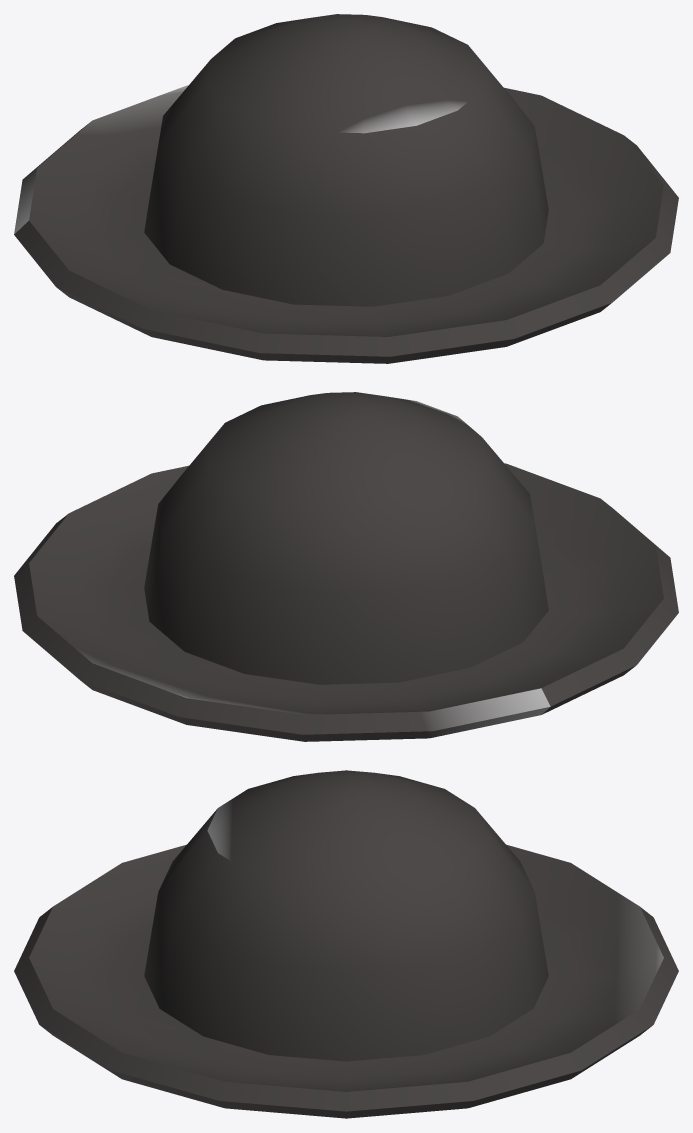
Rendered from kapelusz.fbx.
3 renders of one model, top to bottom at view 1: azimuth 30°, elevation 25°; view 2: azimuth 150°, elevation 25°; view 3: azimuth 270°, elevation 25°, orthographic.
Parts seen in each view (by area): view 1: Cylinder.002; view 2: Cylinder.002; view 3: Cylinder.002.
Boxes of the visible parts, x1=… form: Cylinder.002: x1=14, y1=14, x2=678, y2=363; Cylinder.002: x1=14, y1=392, x2=678, y2=741; Cylinder.002: x1=14, y1=770, x2=678, y2=1118.
Size of the model in its own units: 209 by 209 by 68.38.
